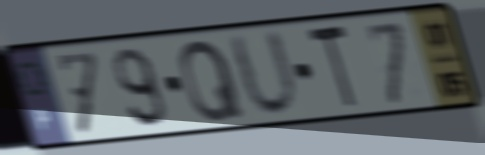7: (52, 47, 101, 137), (364, 18, 408, 106)
9: (109, 46, 170, 129)
Q: (177, 37, 248, 126)
T: (304, 21, 360, 115)
U: (223, 25, 303, 122)
